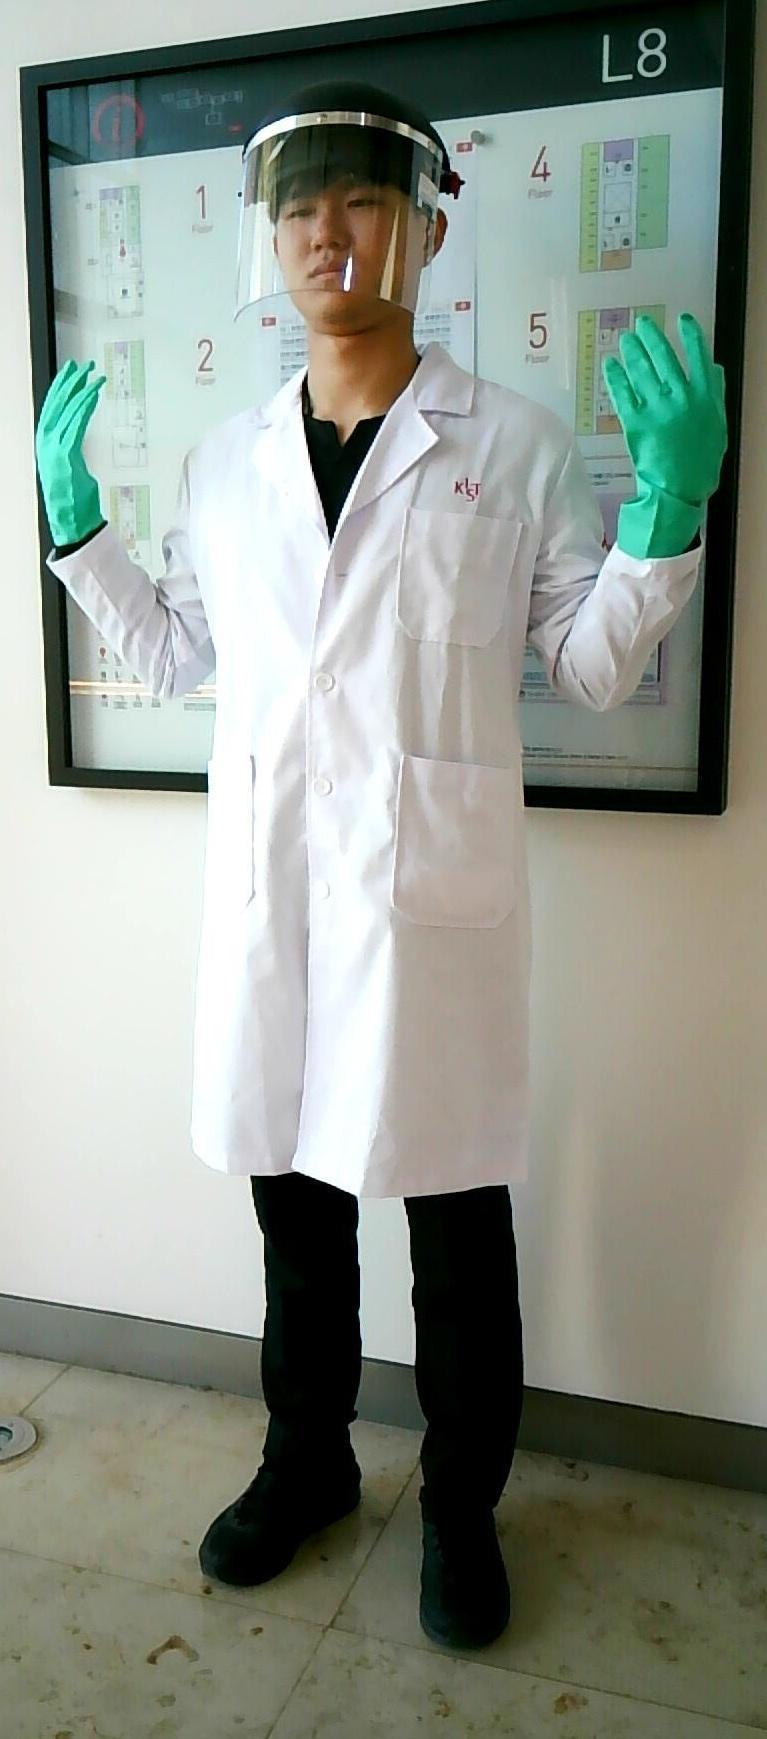lab_coat: (168, 410, 538, 1163)
